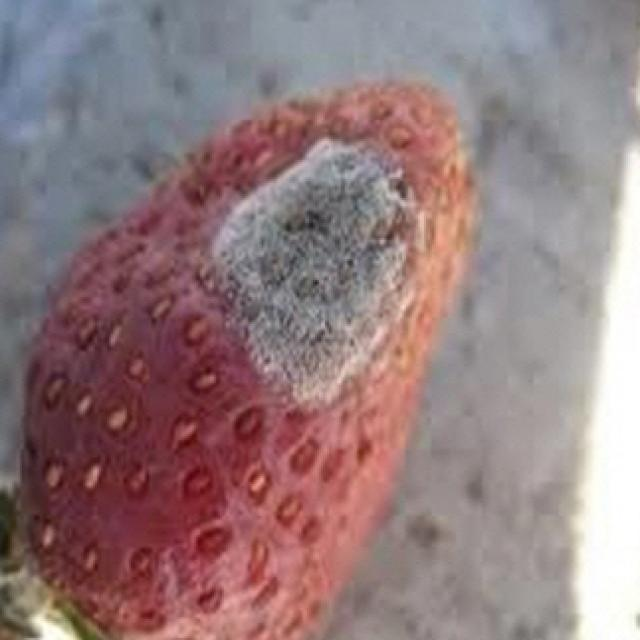Gray Mold: (191, 130, 429, 421)
